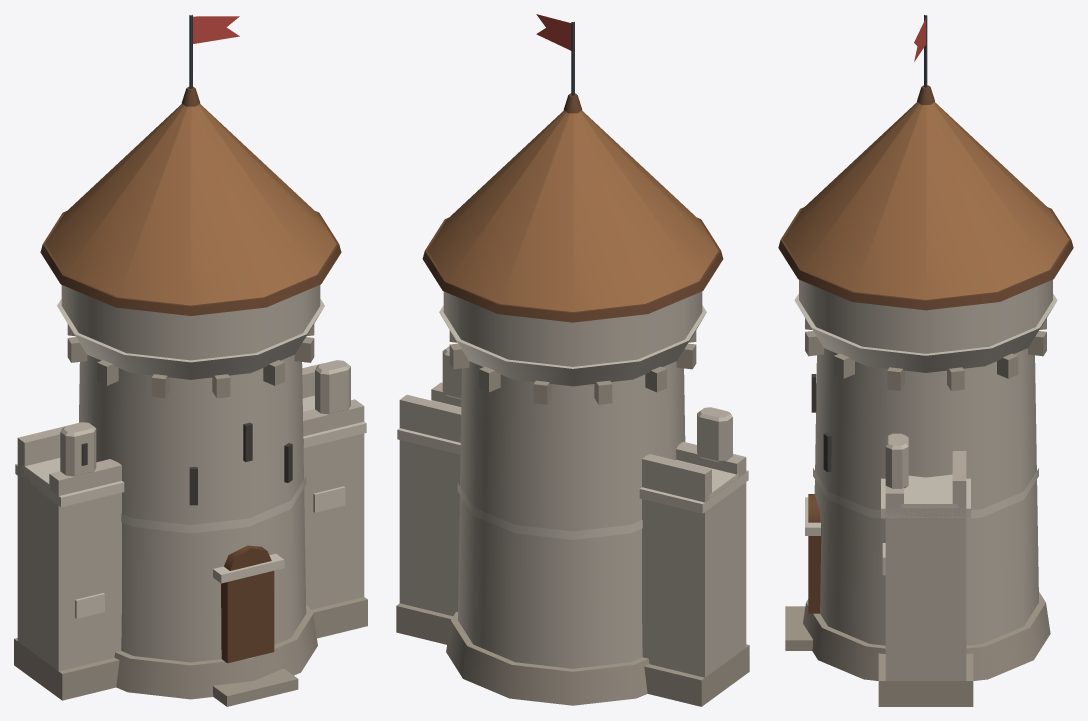
Rendered from watchtower.glb.
3 renders of one model, left to right at view 1: azimuth 30°, elevation 25°; view 2: azimuth 150°, elevation 25°; view 3: azimuth 270°, elevation 25°, orthographic.
Visible parts, largest first — view 1: tower_body, roof, stub_left_body, tower_top_wall, stub_right_body, tower_plinth, tower_corbel_ring, door, roof_eave, stub_left_plinth, stub_right_merlon_5, door_step (+14 smaller); view 2: tower_body, roof, stub_left_body, tower_top_wall, stub_right_body, tower_plinth, tower_corbel_ring, roof_eave, stub_left_plinth, stub_left_parapet_back, stub_right_parapet_back, stub_left_merlon_0 (+7 smaller); view 3: tower_body, roof, stub_right_body, tower_top_wall, tower_plinth, tower_corbel_ring, roof_eave, stub_right_plinth, stub_right_walkway, stub_right_merlon_5, tower_band, door_step (+3 smaller).
Part boxes in pixels (x1,y1,x2,y2): tower_body: (79,355,306,662); roof: (45,104,336,305); stub_left_body: (17,466,121,671); tower_top_wall: (61,285,320,360); stub_right_body: (303,421,364,609); tower_plinth: (114,605,317,699); tower_corbel_ring: (57,299,324,379); door: (221,570,274,663); roof_eave: (40,211,341,315); stub_left_plinth: (14,638,119,700); stub_right_merlon_5: (315,360,350,414); door_step: (213,668,298,706); tower_body: (457,361,685,668); roof: (427,110,718,311); stub_left_body: (642,472,746,677); tower_top_wall: (443,291,702,366); stub_right_body: (399,427,460,615); tower_plinth: (446,611,649,705); tower_corbel_ring: (439,305,706,386); roof_eave: (422,217,723,322); stub_left_plinth: (644,644,749,706); stub_left_parapet_back: (642,454,711,501); stub_right_parapet_back: (399,395,461,442); stub_left_merlon_0: (697,407,732,462); tower_body: (814,348,1038,645); roof: (783,102,1068,299); stub_right_body: (885,508,966,680); tower_top_wall: (799,279,1052,353); tower_plinth: (803,592,1050,680); tower_corbel_ring: (794,293,1057,372); roof_eave: (778,207,1073,310); stub_right_plinth: (878,653,973,706); stub_right_walkway: (900,474,958,508); stub_right_merlon_5: (885,433,908,488); tower_band: (813,468,1038,518); door_step: (785,606,812,650).
Size of the model in its own units: 3 by 5.92 by 2.56.
